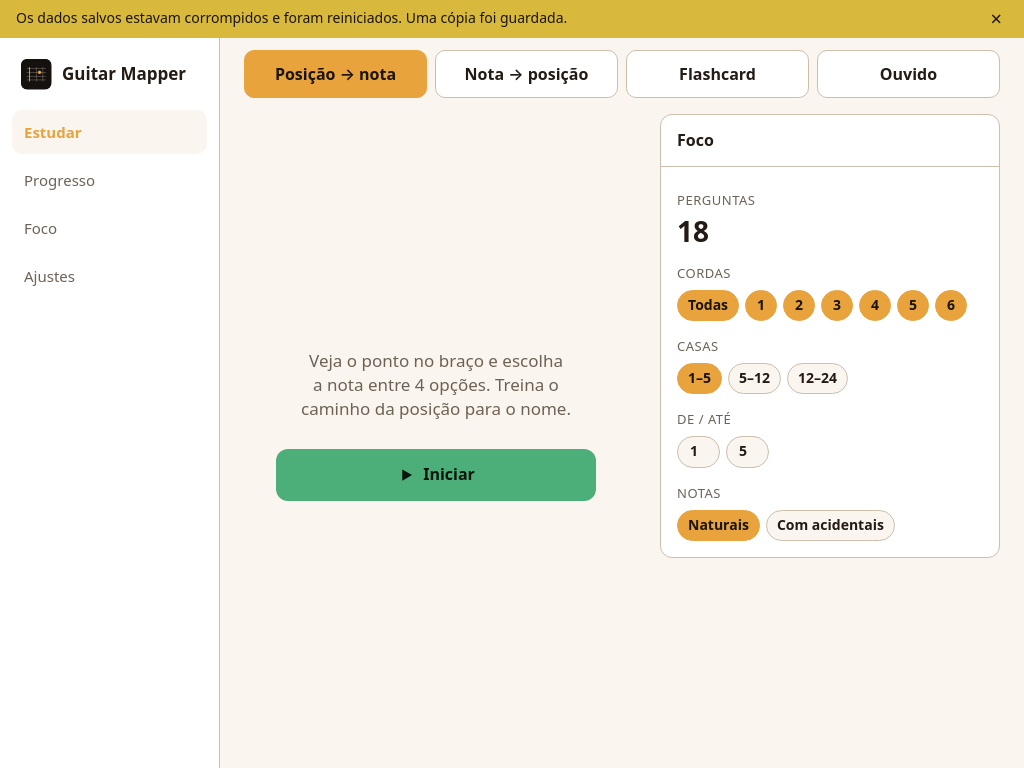
App › tells the user when saved data was corrupted and reset
Expected: the text "dados salvos estavam corrompidos" is shown, [16,8,567,27]
Click the button named "Fechar aviso" at coordinates (996, 19), box [984,8,1008,30]
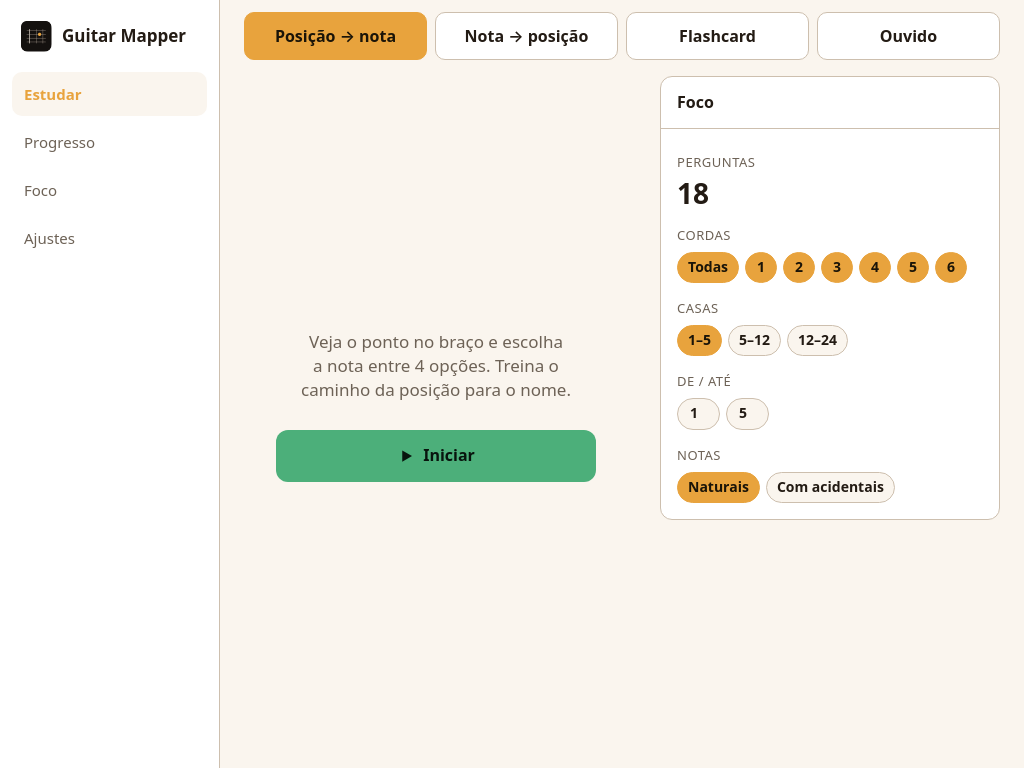
Expected: the text "dados salvos estavam corrompidos" is gone
